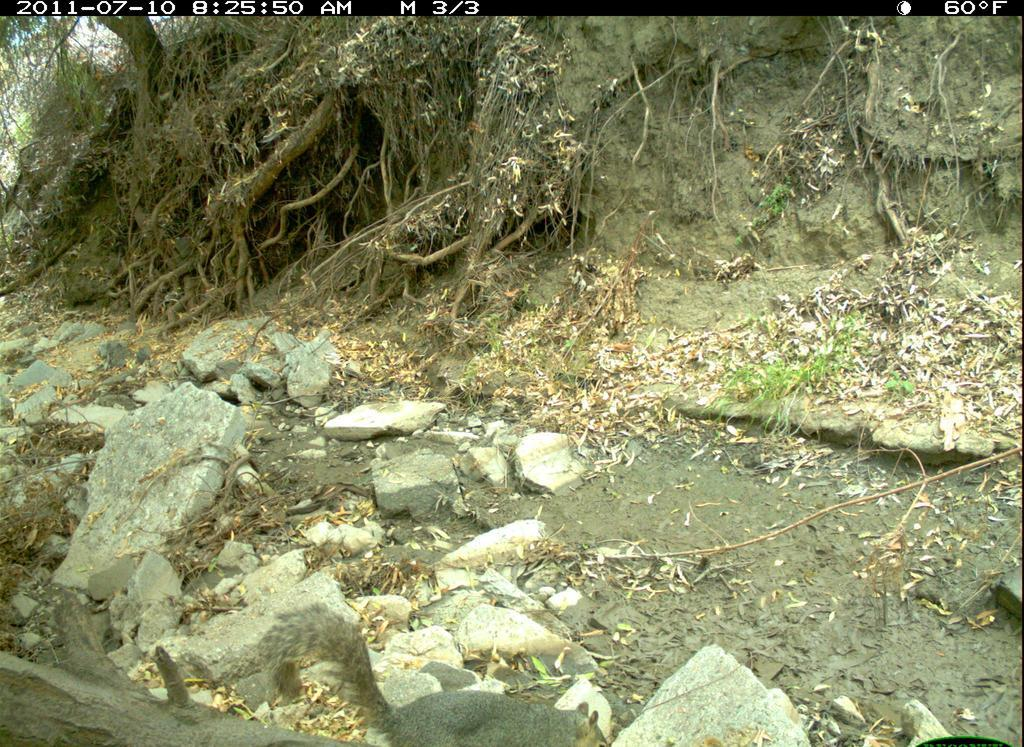squirrel: (251, 598, 612, 747)
